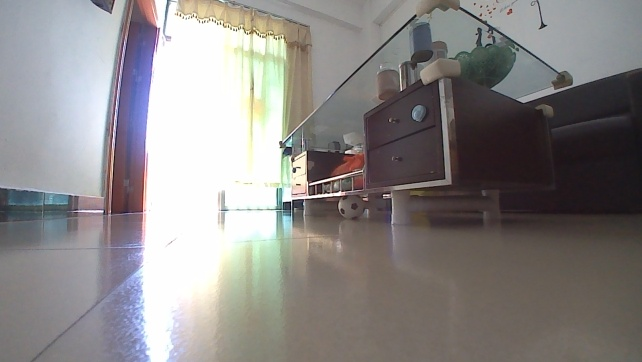sofa1: (500, 65, 641, 215)
tea_table: (277, 0, 574, 227)
